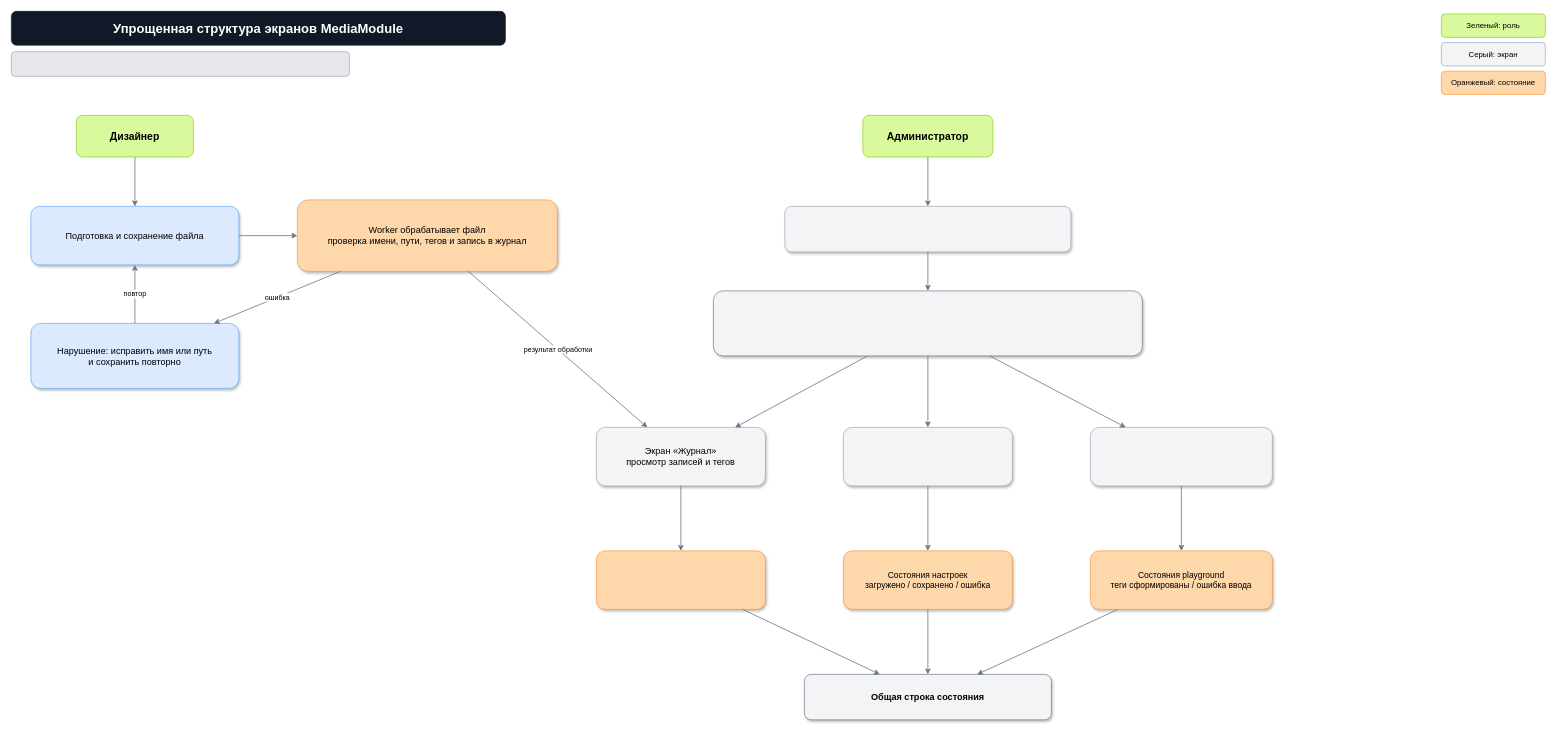
The diagram is 1557 pixels wide and 736 high, and some of its shapes have lost their labels. Here are the shapes that lost their labels. From the top down, the centre of each, then its label:
the point at 180,63: Только основные экраны, роли и ключевые переходы.
the point at 928,229: Запуск MediaModule Desktop
the point at 928,324: Главное окно приложения вкладки: Журнал / Настройки / GigaChat Playground
the point at 928,457: Экран «Настройки» редактирование appsettings
the point at 1181,457: Экран «GigaChat Playground» ручной тест тегирования
the point at 681,581: Состояния журнала загружено / пусто / ошибка БД
